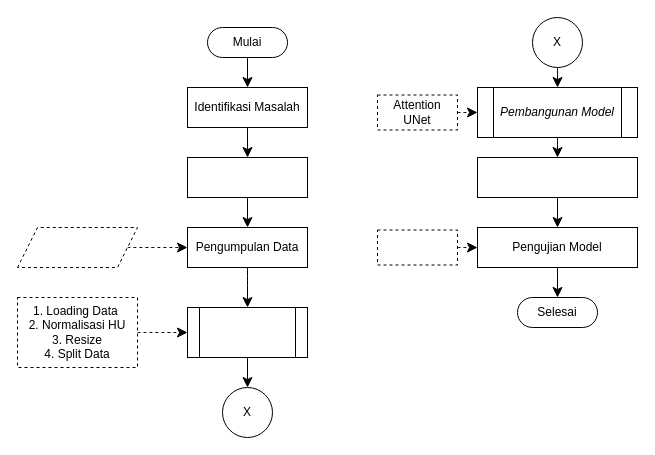
Some shapes in this 655 by 455 pixel diagram are drawn without their labels. Each missing label, with the box of its shape:
Dice dan IoU: (376, 229, 458, 265)
LiTS Dataset: (16, 226, 138, 268)
Pelatihan Model: (476, 156, 638, 198)
Pre-Processing Data: (186, 306, 308, 358)
Studi Literatur: (186, 156, 308, 198)
